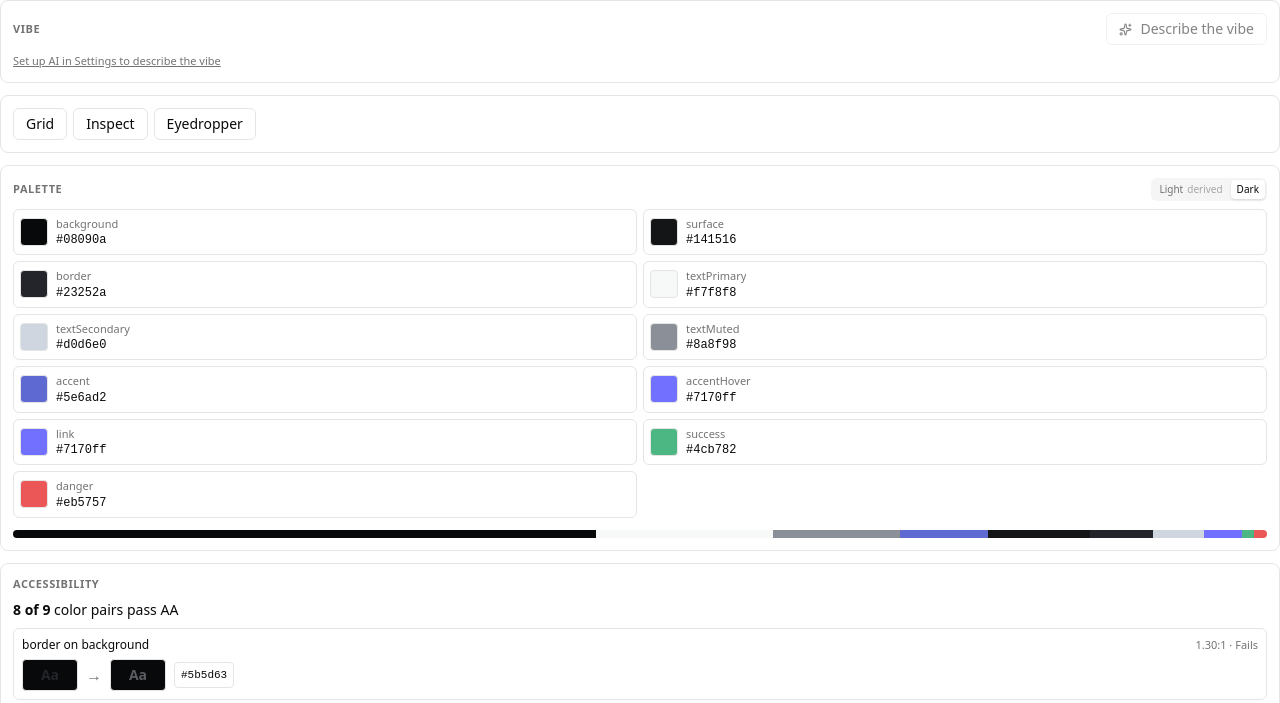
T1.38 Inspect Port listener (SPC-27) › T1.38 a foreign Port (council, llm, unnamed) is ignored: not read, never disconnected
The width and height of the screenshot is (1280, 703).
Click the button "Inspect" at coordinates (110, 124), box [73,108,148,140]
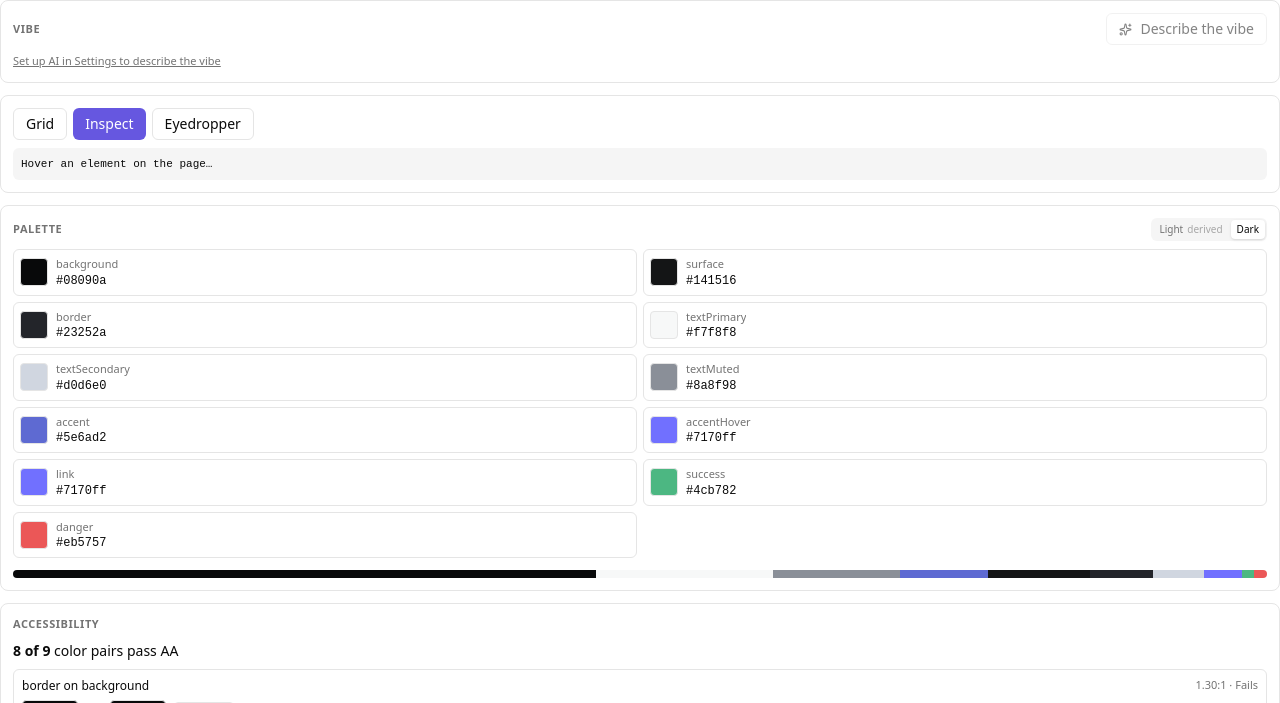
Now the text "Hover an element on the page…" is shown, box [13,148,1267,180]
Now the text with test id "inspector-card" shows "Hover an element on the page", box [21,158,212,170]
